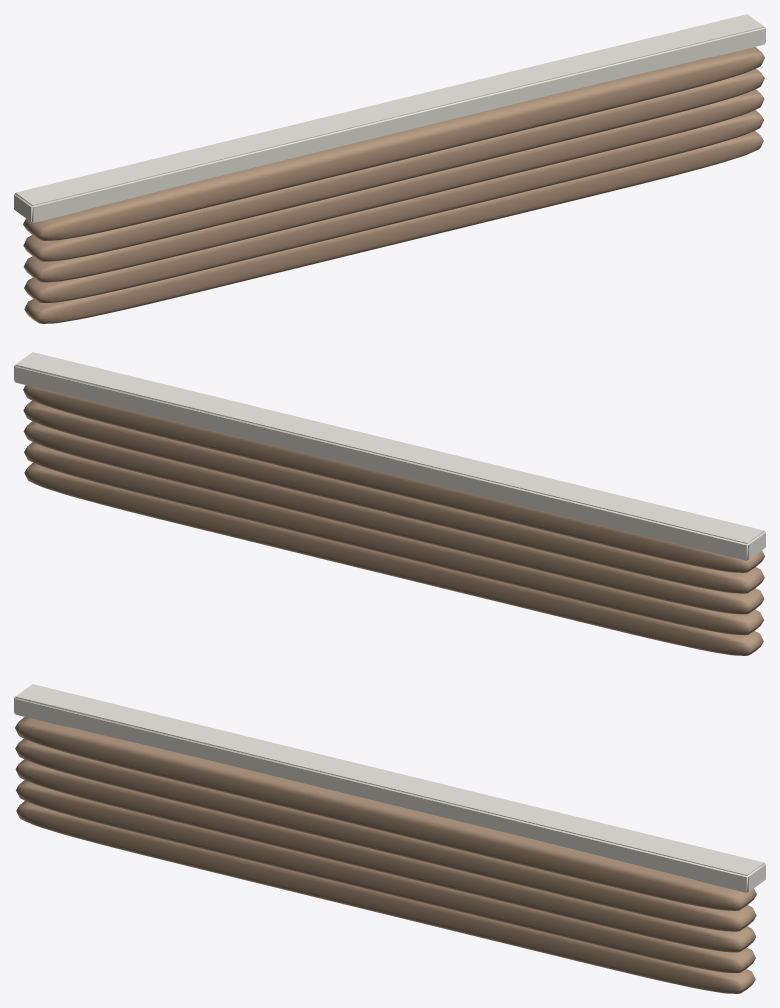
The model's file is scandinavian.roman_blind.gltf.
3 views of the same model, one above another, from view 1: azimuth 30°, elevation 25°; view 2: azimuth 150°, elevation 25°; view 3: azimuth 330°, elevation 25° (orthographic).
Visible parts, largest first — view 1: scandinavian.roman_blind.headrail; view 2: scandinavian.roman_blind.headrail; view 3: scandinavian.roman_blind.headrail.
Part boxes in pixels (box(x1,y1,x2,y2)): scandinavian.roman_blind.headrail: box(14, 14, 765, 323); scandinavian.roman_blind.headrail: box(14, 352, 765, 655); scandinavian.roman_blind.headrail: box(14, 684, 765, 993).
Bounding box in the file's own units: 1.5 × 0.2449 × 0.09.
2 materials, 1 textured.
